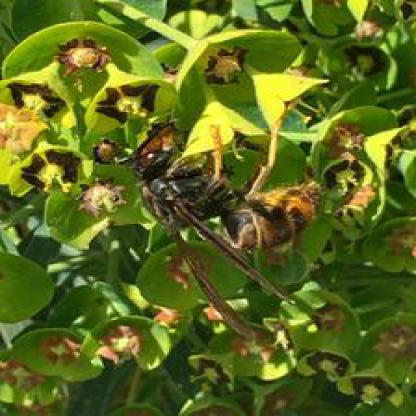Asian Hornet: (132, 126, 324, 340)
